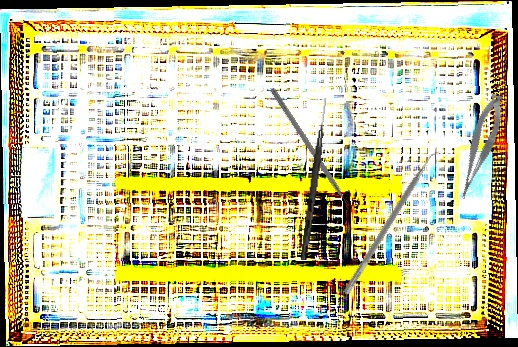Chopper: (263, 87, 356, 220)
Hook Surgical: (300, 97, 329, 261)
Micro Scissor: (445, 91, 514, 202)
Spatula Surgical: (342, 144, 444, 300)
